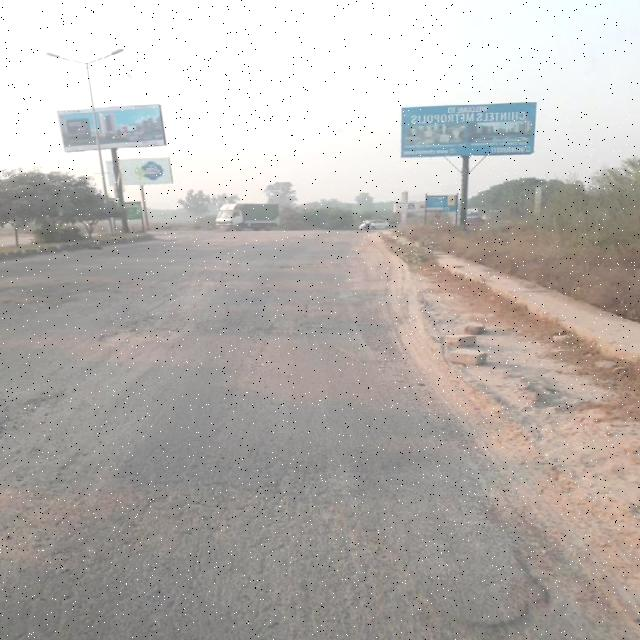D20: (22, 430, 470, 620)
D40: (92, 296, 207, 349)
